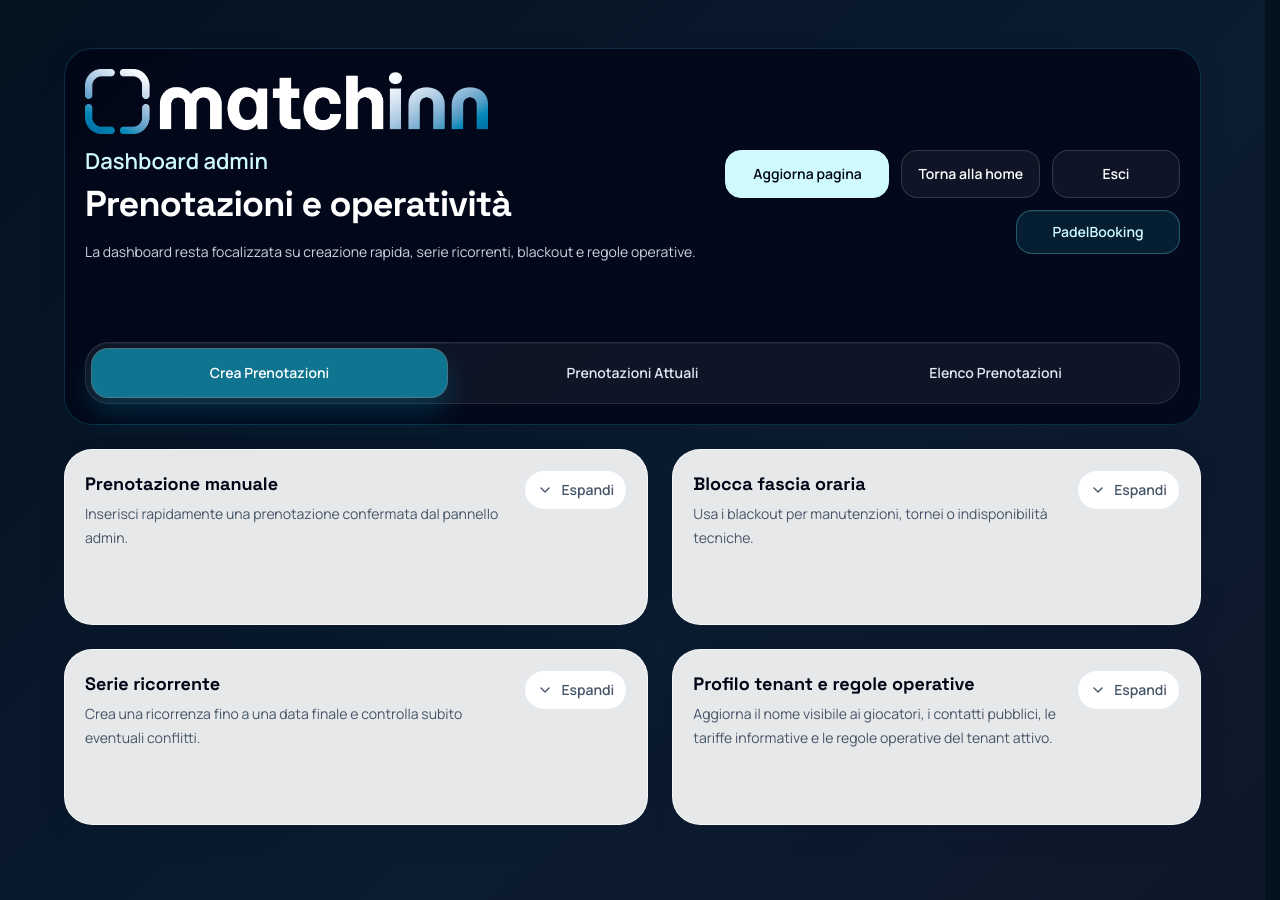
Scenario: AdminDashboardPage › derives the recurring weekday from the selected start date and forwards the selected recurring slot_id
Check: the text "Dashboard admin" is shown, box [85,146,268,176]
Click the button with aria-label "Espandi Serie ricorrente" at coordinates (576, 690), box [524,670,627,710]
(page scrolled)
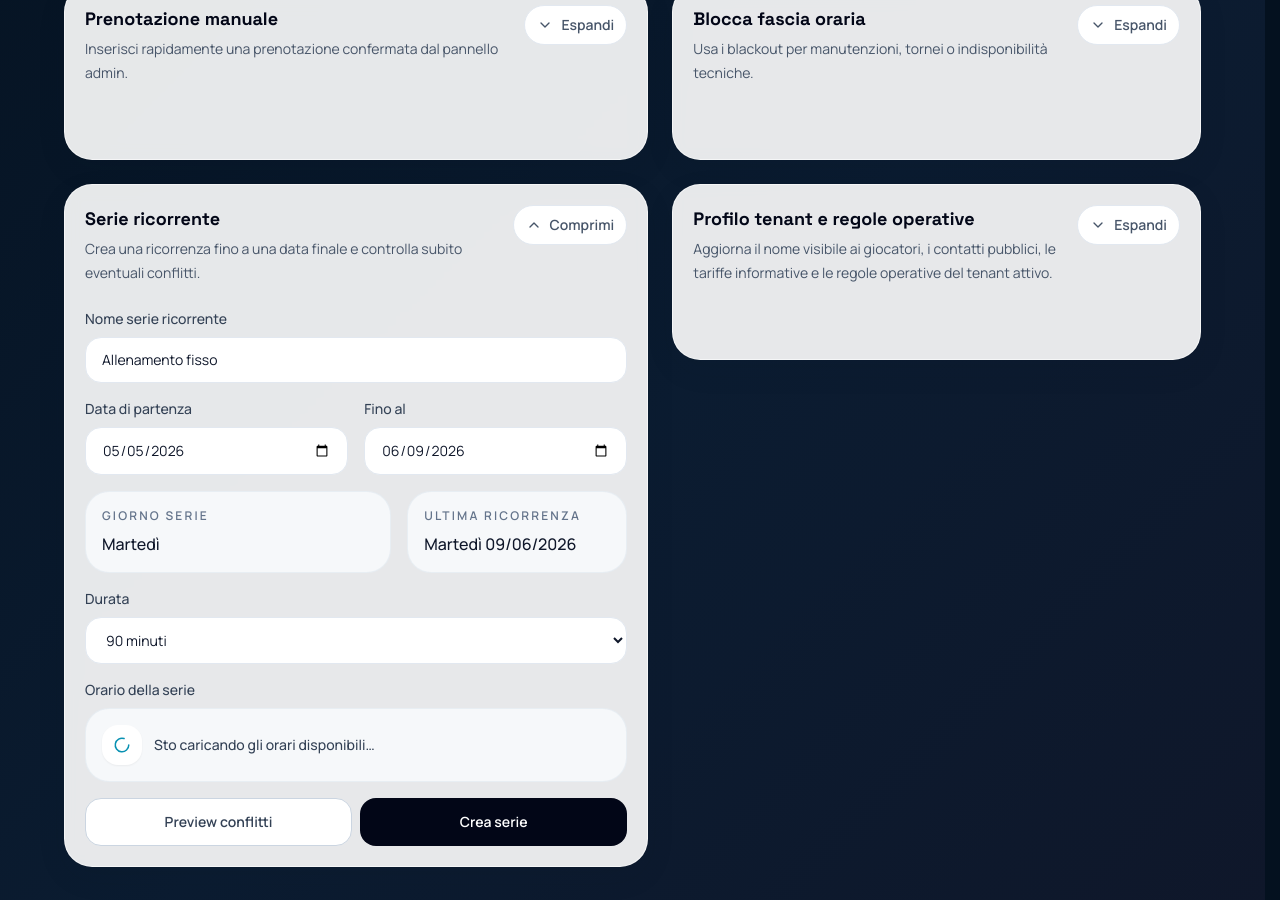
Type "2026-10-25" into the date field labelled "Data di partenza" at coordinates (217, 451), box [85,427,348,475]
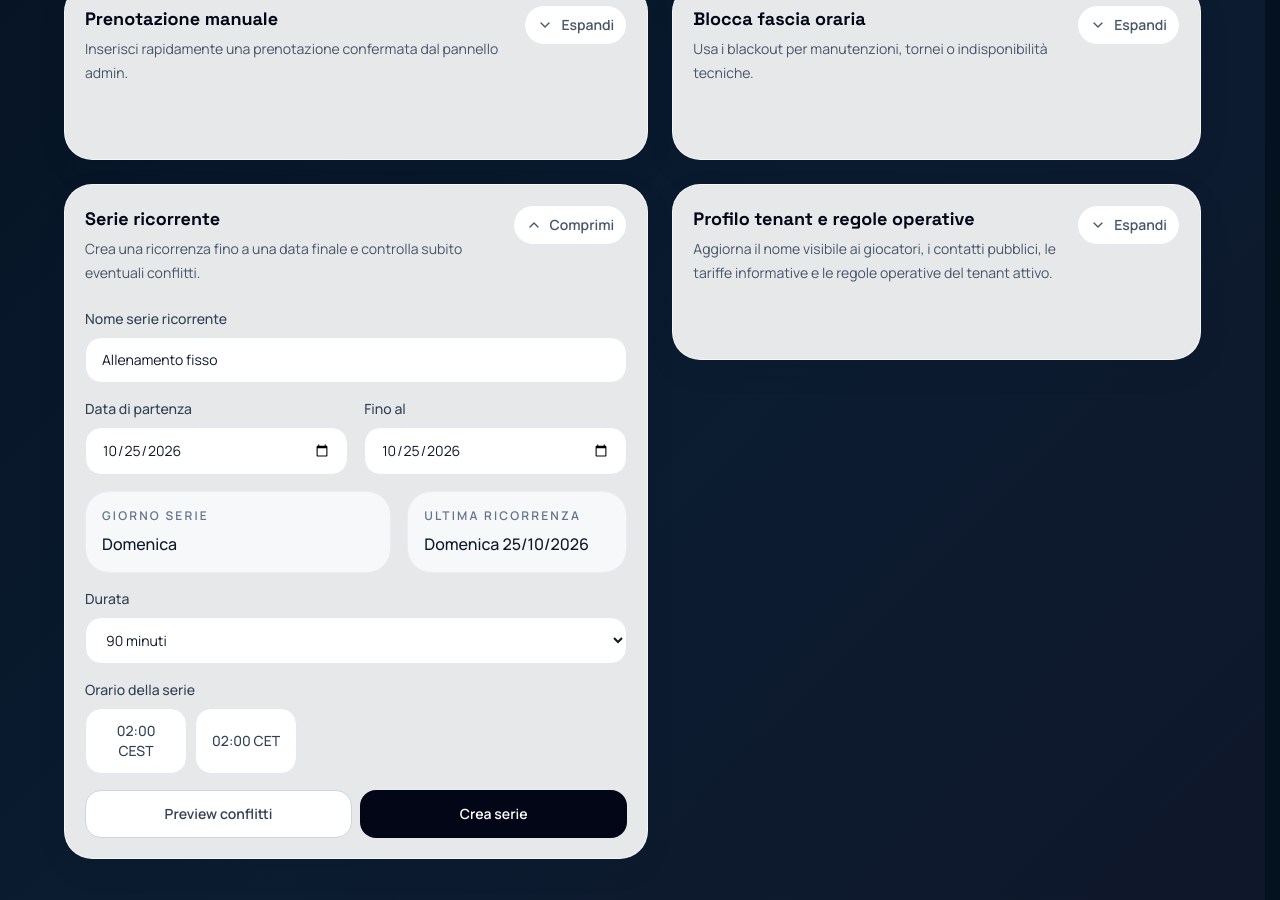
Check: the text "Serie ricorrente" is shown, box [85,207,220,230]
Check: the date field labelled "Fino al" holds "2026-10-25", box [364,427,627,475]
Check: the button "02:00 CET" is shown
Click the button "02:00 CET" at coordinates (246, 741), box [195,708,297,774]
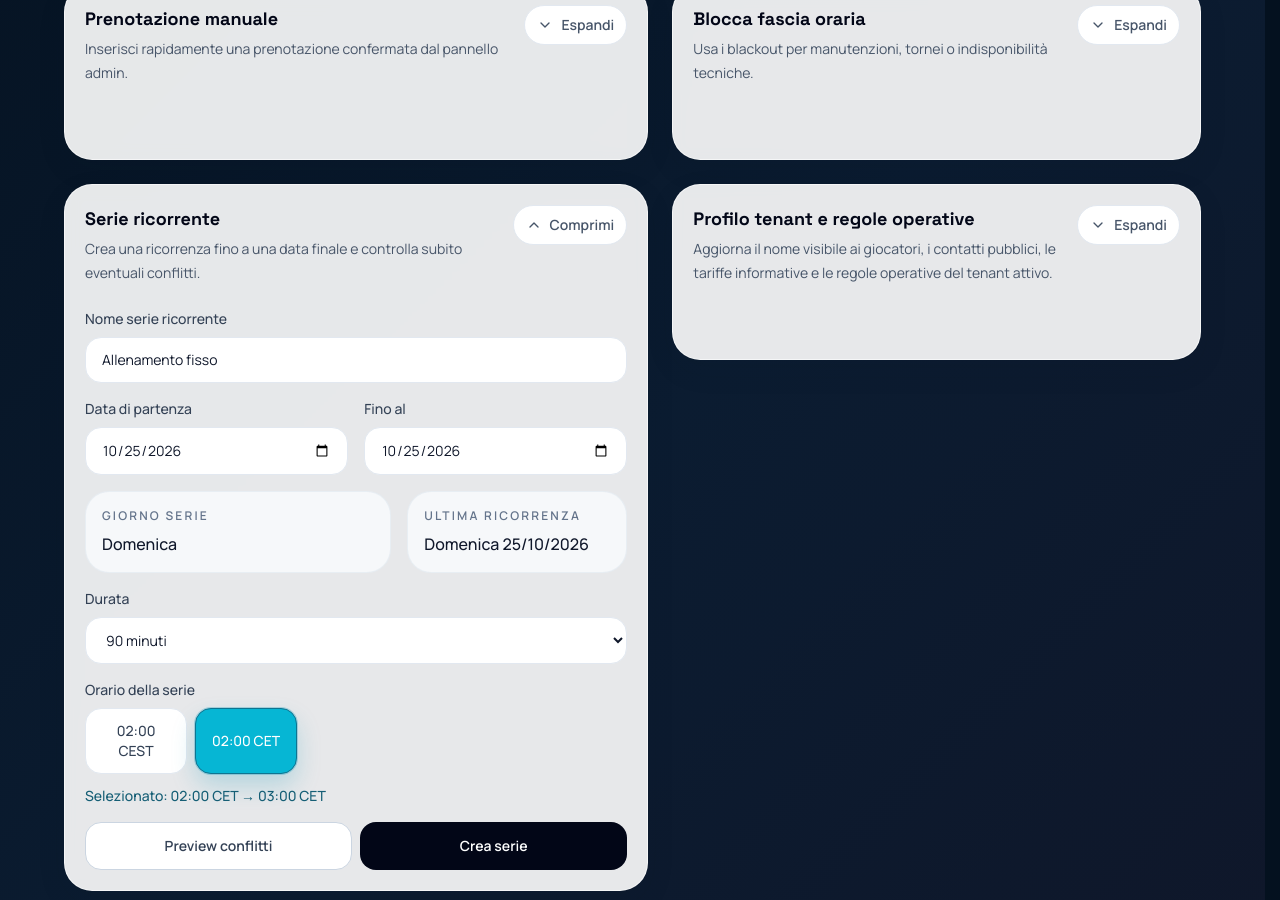
Click the button "Crea serie" at coordinates (494, 846), box [360,822,627,870]
(page scrolled)
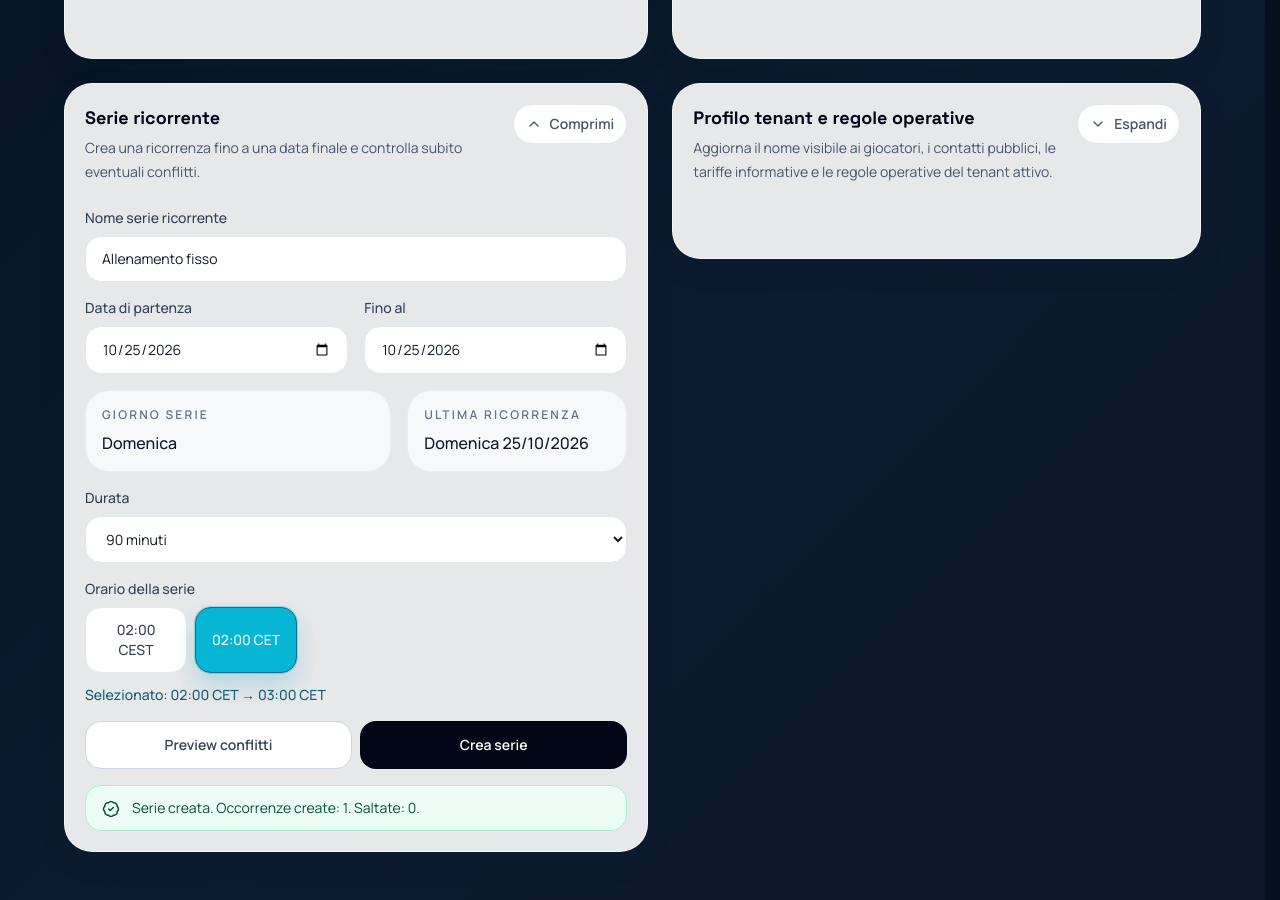
Check: the text "Serie creata. Occorrenze create: 1. Saltate: 0." is shown, box [132,798,420,818]
